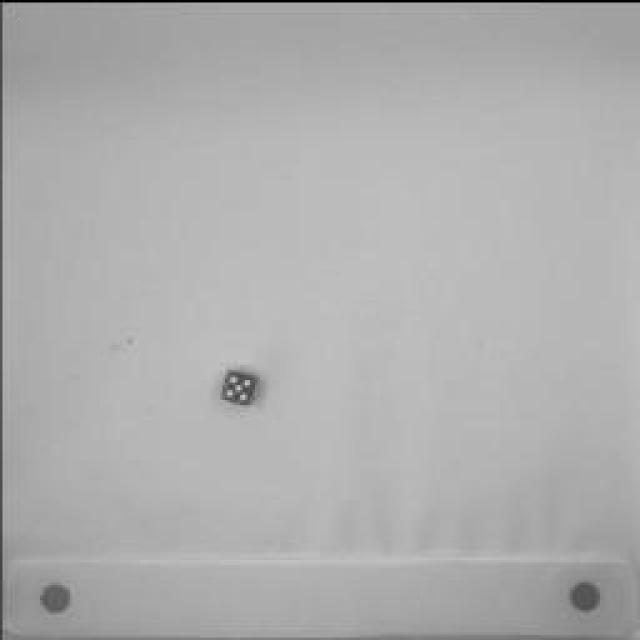dice_5: (216, 365, 259, 405)
